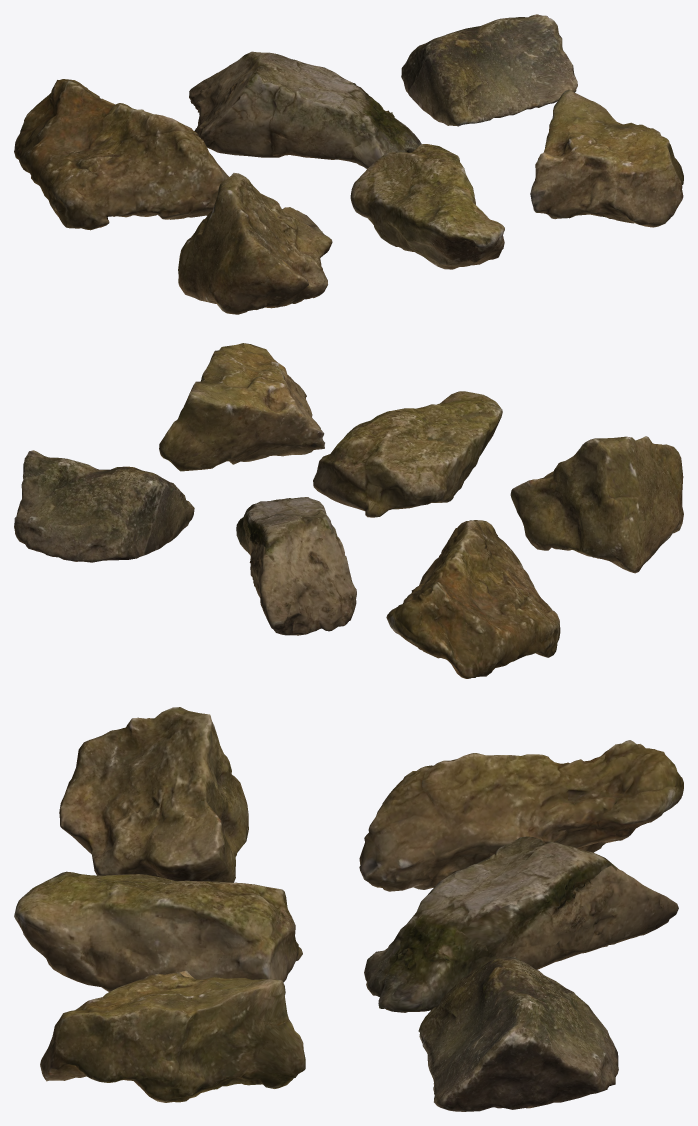
The model's file is rock_moss_set_01.glb.
The picture shows the model from 3 angles, top to bottom: view 1: azimuth 30°, elevation 25°; view 2: azimuth 150°, elevation 25°; view 3: azimuth 270°, elevation 25°; orthographic projection. The views are drawn at different scales.
Visible parts, largest first — view 1: rock_moss_set_01_rock01; view 2: rock_moss_set_01_rock01; view 3: rock_moss_set_01_rock01.
Boxes of the visible parts, left/top/right/bottom form: rock_moss_set_01_rock01: left=14, top=14, right=683, bottom=314; rock_moss_set_01_rock01: left=14, top=343, right=683, bottom=678; rock_moss_set_01_rock01: left=14, top=707, right=683, bottom=1111.
Size of the model in its own units: 8 by 1.77 by 6.94.
Materials: 1 (1 with a texture image).
